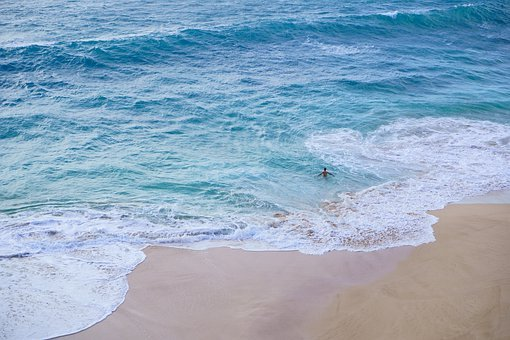beach: (3, 6, 506, 338)
